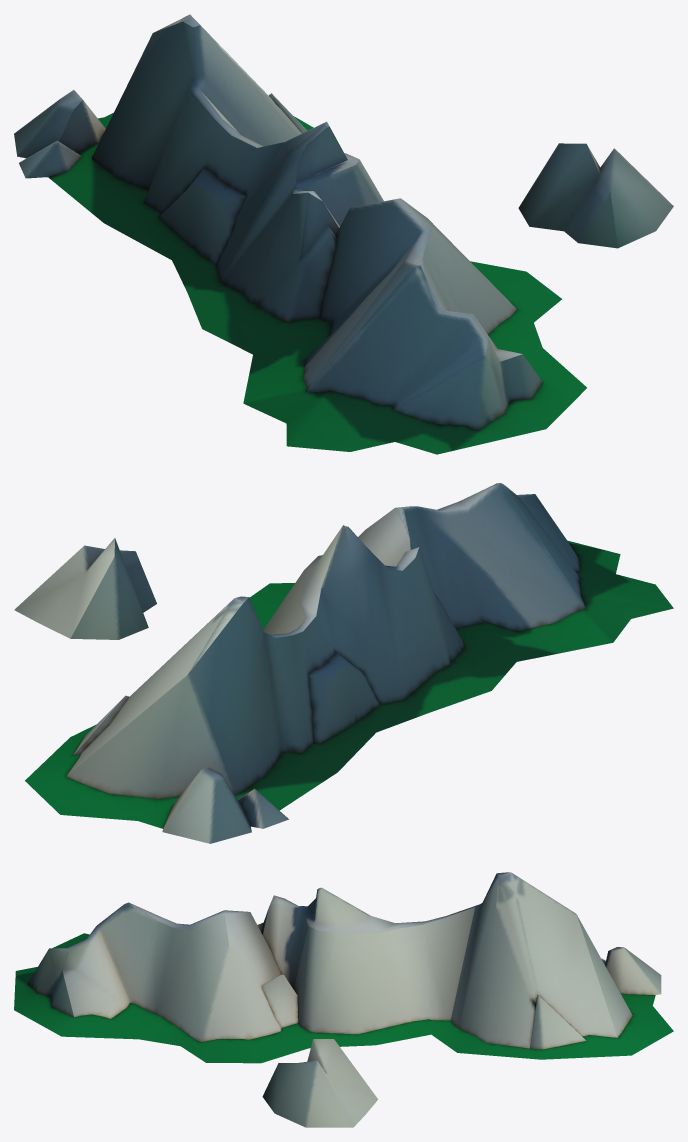
File: Sce_worldmap_mountain_02.FBX
3 views of the same model, one above another, from view 1: azimuth 30°, elevation 25°; view 2: azimuth 150°, elevation 25°; view 3: azimuth 270°, elevation 25° (orthographic). The views are drawn at different scales.
Parts seen in each view (by area): view 1: Sce_worldmap_mountain_02; view 2: Sce_worldmap_mountain_02; view 3: Sce_worldmap_mountain_02.
Part boxes in pixels (x1,y1,x2,y2): Sce_worldmap_mountain_02: (14,14,673,454); Sce_worldmap_mountain_02: (14,483,673,843); Sce_worldmap_mountain_02: (14,872,673,1127).
Bounding box in the file's own units: 123 × 38.71 × 177.
